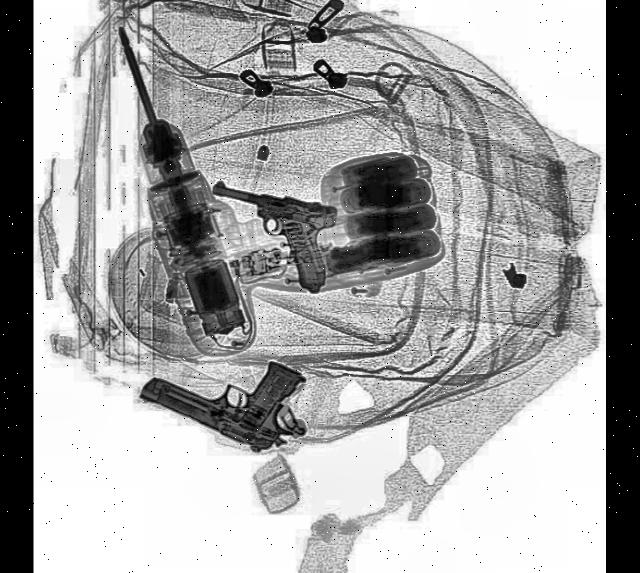Gun: (138, 312, 317, 465), (200, 176, 341, 294)
